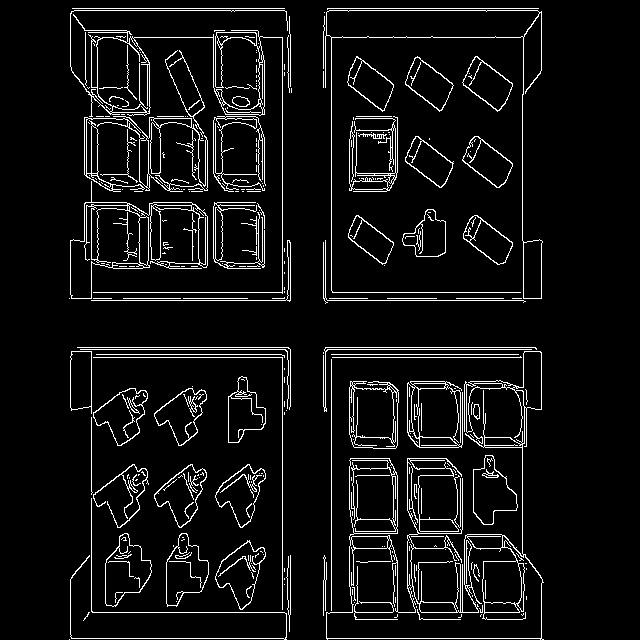Battery: (462, 56, 512, 111), (405, 56, 454, 111), (166, 50, 205, 118), (462, 136, 512, 188), (348, 56, 394, 111), (407, 136, 454, 188), (464, 215, 512, 262), (349, 215, 393, 265)
Pump: (88, 31, 150, 114), (465, 535, 525, 620), (85, 116, 150, 191), (408, 535, 461, 619), (85, 202, 149, 269), (151, 116, 208, 191), (214, 32, 265, 115), (350, 535, 398, 619), (465, 381, 525, 448), (408, 459, 461, 532), (150, 202, 206, 269), (349, 116, 398, 191), (215, 118, 265, 191), (350, 459, 398, 534), (408, 381, 461, 448), (214, 202, 265, 269), (349, 382, 399, 449)
Regulator: (402, 209, 446, 258)
Sensor: (94, 464, 149, 528), (216, 540, 266, 610), (105, 532, 151, 608), (154, 464, 206, 528), (215, 464, 266, 528), (92, 389, 148, 446), (166, 532, 209, 606), (472, 456, 518, 525), (156, 388, 208, 446), (228, 376, 266, 444)
